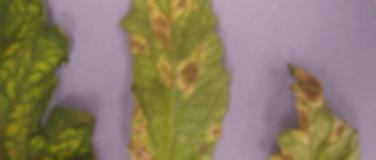Tomato mold leaf: (113, 0, 234, 160), (0, 0, 98, 160), (252, 71, 374, 160)
